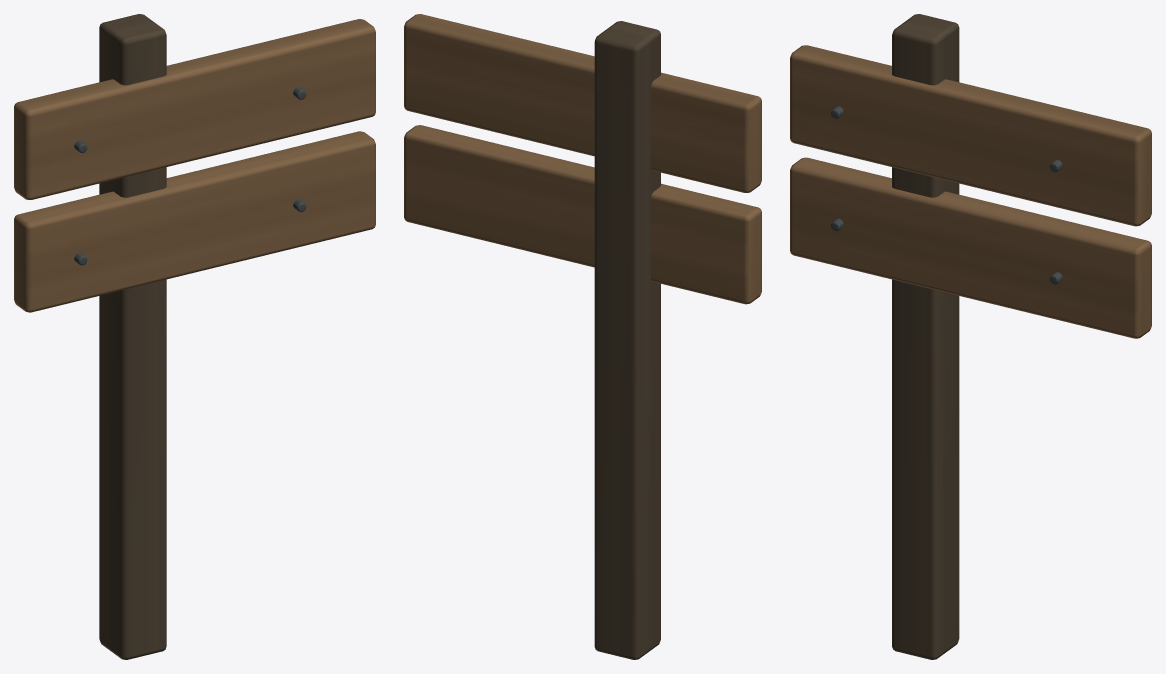
File: sign.glb
The picture shows the model from 3 angles, left to right: view 1: azimuth 30°, elevation 25°; view 2: azimuth 150°, elevation 25°; view 3: azimuth 330°, elevation 25°; orthographic projection.
Visible parts, largest first — view 1: Harbour Signpost; view 2: Harbour Signpost; view 3: Harbour Signpost.
Part boxes in pixels (x1=…): Harbour Signpost: x1=14, y1=14, x2=375, y2=659; Harbour Signpost: x1=404, y1=14, x2=761, y2=659; Harbour Signpost: x1=790, y1=14, x2=1151, y2=659.
Bounding box in the file's own units: 0.85 × 1.44 × 0.1425.
Materials: 3 (2 with a texture image).
